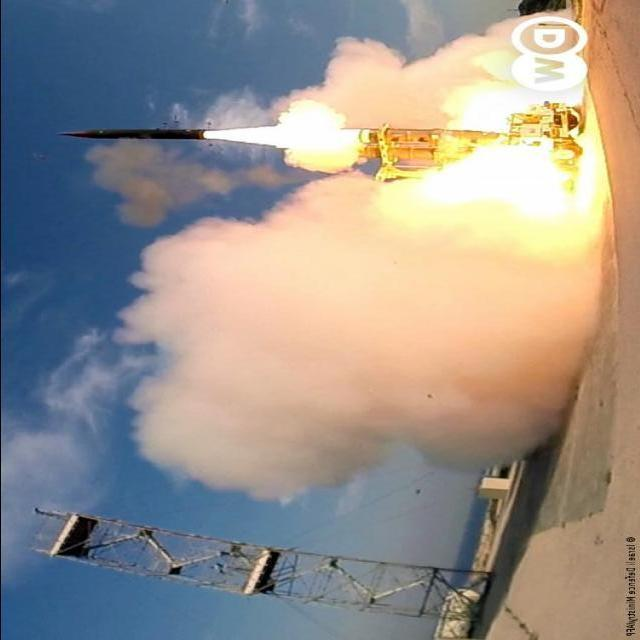Missile: (52, 123, 216, 147)
